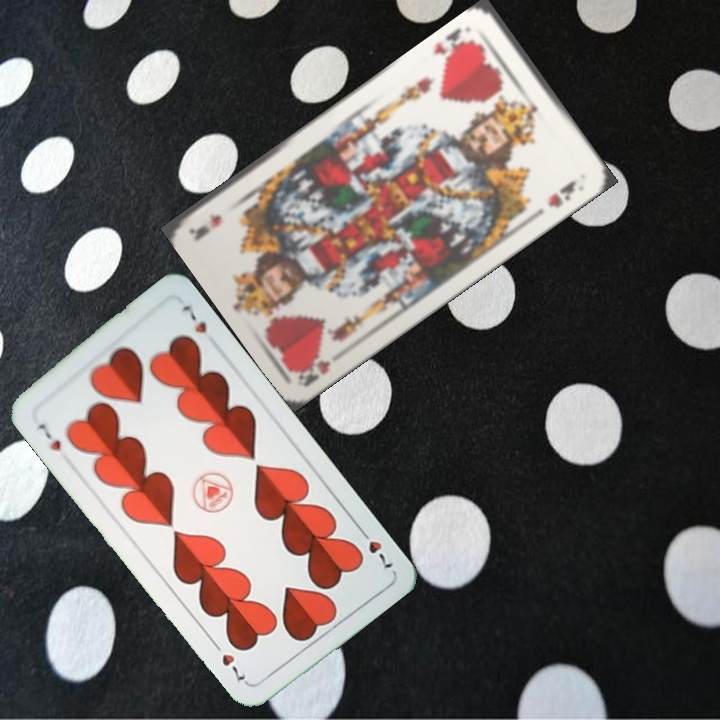H7: (354, 523, 396, 571), (33, 419, 64, 455)
HK: (429, 24, 478, 67), (293, 351, 333, 388)
